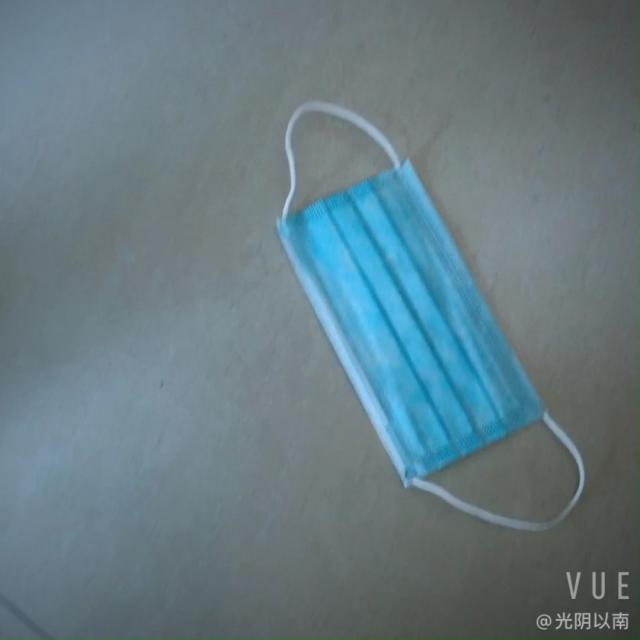non-organic waste: (275, 148, 565, 497)
